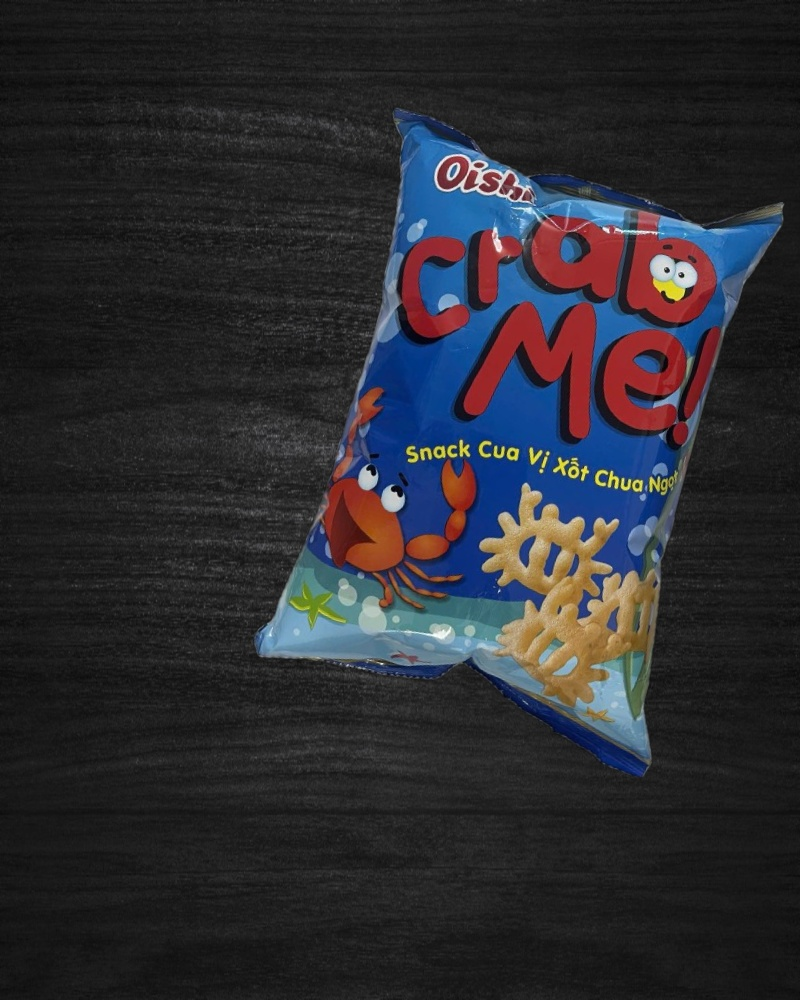Snack chay: (243, 100, 800, 782)
